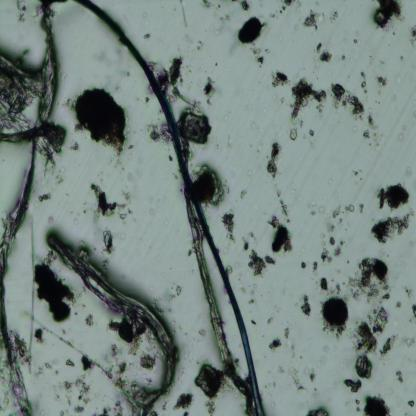Background material: (72, 87, 129, 156), (32, 259, 76, 323), (346, 256, 392, 302), (352, 302, 387, 351), (290, 78, 327, 124), (106, 312, 147, 352), (92, 180, 132, 220), (191, 162, 225, 209), (370, 212, 414, 245), (193, 361, 226, 405), (329, 84, 366, 121), (320, 293, 349, 339), (157, 54, 186, 99), (179, 110, 211, 146), (58, 376, 90, 412), (266, 214, 294, 254), (376, 182, 410, 213), (373, 0, 405, 30), (236, 18, 266, 46), (363, 114, 385, 152), (319, 230, 344, 263), (264, 140, 282, 184), (247, 248, 276, 275), (144, 117, 170, 143), (362, 394, 391, 415), (286, 364, 306, 392), (221, 210, 237, 244), (171, 392, 196, 412), (354, 354, 373, 379), (380, 334, 399, 358), (201, 76, 215, 108), (102, 224, 115, 258), (331, 202, 355, 219), (302, 10, 322, 30), (274, 190, 288, 218), (139, 351, 156, 374), (342, 376, 362, 395), (269, 70, 290, 88), (279, 0, 303, 15), (309, 198, 326, 219), (315, 42, 332, 63), (32, 324, 46, 348), (373, 74, 387, 97), (299, 292, 311, 317), (304, 406, 330, 416), (359, 70, 369, 94), (252, 48, 263, 68), (17, 1, 26, 24), (82, 311, 94, 328), (266, 338, 283, 350), (37, 191, 52, 204), (350, 166, 362, 182), (318, 275, 328, 294), (82, 353, 92, 372), (66, 140, 80, 153), (403, 284, 414, 300), (409, 25, 416, 50), (241, 233, 250, 251), (328, 9, 339, 23), (309, 366, 317, 385), (310, 259, 320, 274), (64, 356, 76, 368), (288, 128, 298, 141), (175, 283, 182, 301), (406, 335, 416, 347), (240, 0, 250, 12), (396, 370, 404, 384), (247, 296, 258, 306), (166, 152, 175, 164), (196, 38, 204, 51), (359, 198, 365, 215), (201, 1, 212, 10), (283, 326, 290, 340), (143, 30, 152, 40), (411, 304, 416, 322), (353, 33, 360, 45), (266, 316, 274, 325), (308, 127, 315, 137), (300, 260, 307, 270), (240, 190, 247, 199), (408, 400, 414, 409), (396, 300, 402, 309), (342, 53, 346, 60)
Cellulose filter fibre: (0, 3, 58, 415), (45, 232, 176, 411), (179, 137, 253, 410), (0, 54, 45, 123), (0, 124, 67, 153)
Cotton: (78, 1, 263, 415)
